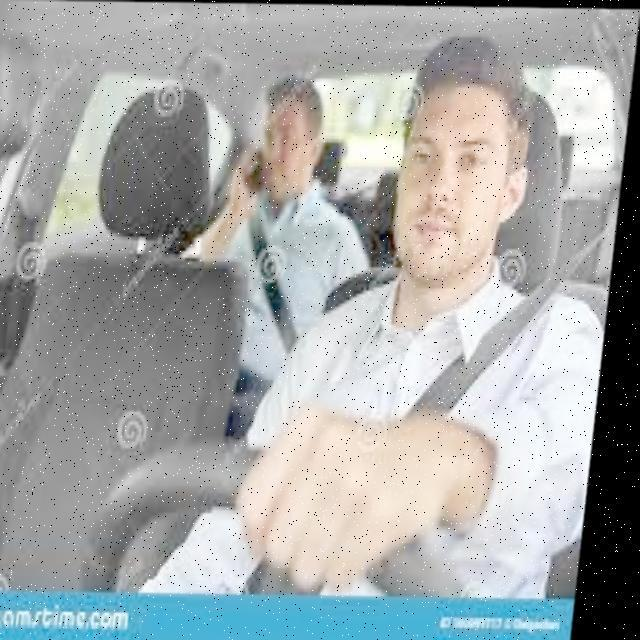seatbelt: (326, 246, 618, 494), (235, 150, 359, 314)
